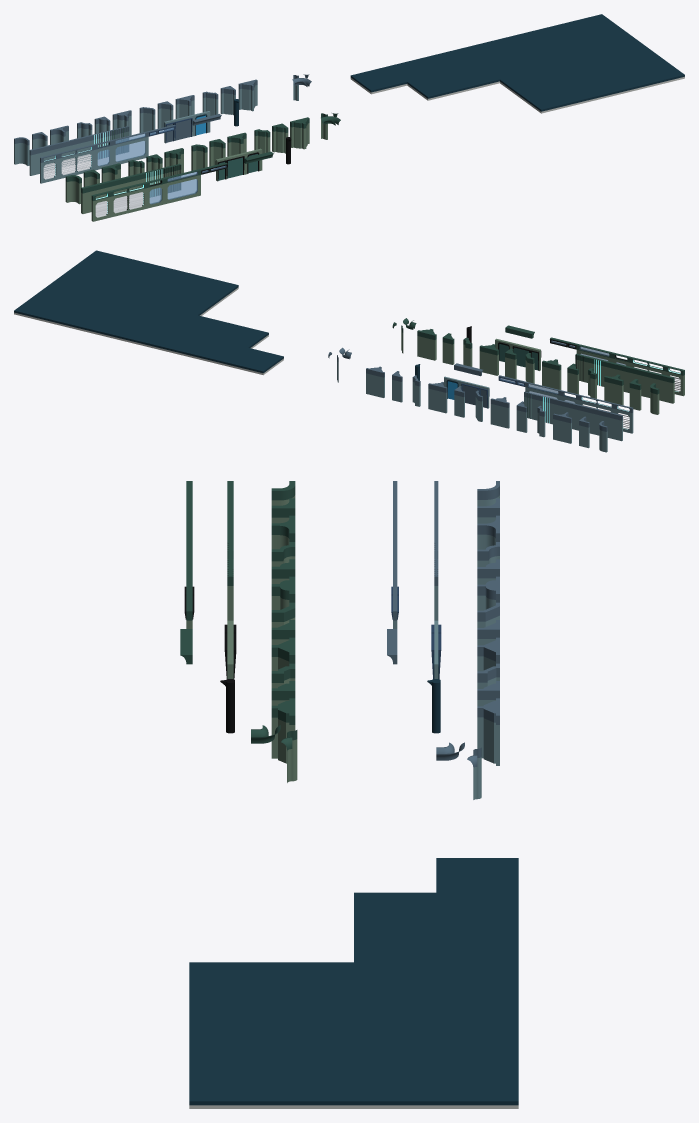
File: CyberPack_ModularRooms.fbx
3 views of the same model, one above another, from view 1: azimuth 30°, elevation 25°; view 2: azimuth 150°, elevation 25°; view 3: azimuth 270°, elevation 25° (orthographic). The views are drawn at different scales.
Visible parts, largest first — view 1: Ceiling_16m, Ceiling_8m, Ceiling_4m, Floor_16m, W1_WindowGlass_4m, W2_WindowGlass_4m, W1_WallWindow1_4m_Shutters, W2_WallWindow1_4m_Shutters, W2_WallCorner_Angular2C, W1_WallCorner_Angular2C, W2_WallWindow1B_4m, W1_WallWindow1B_4m (+5 smaller); view 2: Ceiling_16m, Ceiling_8m, Ceiling_4m, W1_Wall_4m, W2_Wall_4m, Floor_16m, W1_WallCorner_Angular1C, W1_WallCorner_Round2C, W2_WallCorner_Angular2C, W2_WallCorner_Angular1C, W1_WallCorner_Angular2C, W1_WallCorner_Round1C (+2 smaller); view 3: Ceiling_16m, Ceiling_8m, Ceiling_4m, Floor_16m, W1_WallCorner_Angular2C.
Part boxes in pixels (left/top/right/bottom): Ceiling_16m: left=458, top=14, right=684, bottom=111; Ceiling_8m: left=387, top=49, right=499, bottom=98; Ceiling_4m: left=350, top=66, right=407, bottom=92; Floor_16m: left=500, top=76, right=684, bottom=113; W1_WindowGlass_4m: left=115, top=141, right=145, bottom=161; W2_WindowGlass_4m: left=167, top=179, right=197, bottom=199; W1_WallWindow1_4m_Shutters: left=61, top=154, right=91, bottom=175; W2_WallWindow1_4m_Shutters: left=113, top=192, right=143, bottom=213; W2_WallCorner_Angular2C: left=290, top=123, right=309, bottom=149; W1_WallCorner_Angular2C: left=238, top=85, right=257, bottom=111; W2_WallWindow1B_4m: left=165, top=175, right=200, bottom=204; W1_WallWindow1B_4m: left=112, top=137, right=148, bottom=164; Ceiling_16m: left=14, top=250, right=238, bottom=347; Ceiling_8m: left=156, top=315, right=268, bottom=364; Ceiling_4m: left=227, top=348, right=283, bottom=373; W1_Wall_4m: left=559, top=405, right=595, bottom=434; W2_Wall_4m: left=610, top=368, right=646, bottom=396; Floor_16m: left=14, top=287, right=238, bottom=348; W1_WallCorner_Angular1C: left=428, top=388, right=447, bottom=413; W1_WallCorner_Round2C: left=490, top=404, right=509, bottom=428; W2_WallCorner_Angular2C: left=417, top=336, right=436, bottom=360; W2_WallCorner_Angular1C: left=479, top=351, right=498, bottom=375; W1_WallCorner_Angular2C: left=366, top=373, right=384, bottom=397; W1_WallCorner_Round1C: left=553, top=419, right=571, bottom=443; Ceiling_16m: left=189, top=962, right=518, bottom=1105; Ceiling_8m: left=354, top=892, right=518, bottom=962; Ceiling_4m: left=436, top=858, right=518, bottom=892; Floor_16m: left=189, top=1105, right=518, bottom=1108; W1_WallCorner_Angular2C: left=477, top=717, right=499, bottom=765.
Bounding box in the file's own units: 6600 × 290 × 1644.
